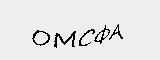А: (108, 24, 127, 41)
М: (53, 29, 76, 51)
О: (30, 27, 49, 49)
С: (78, 27, 95, 48)
Ф: (93, 24, 108, 46)
